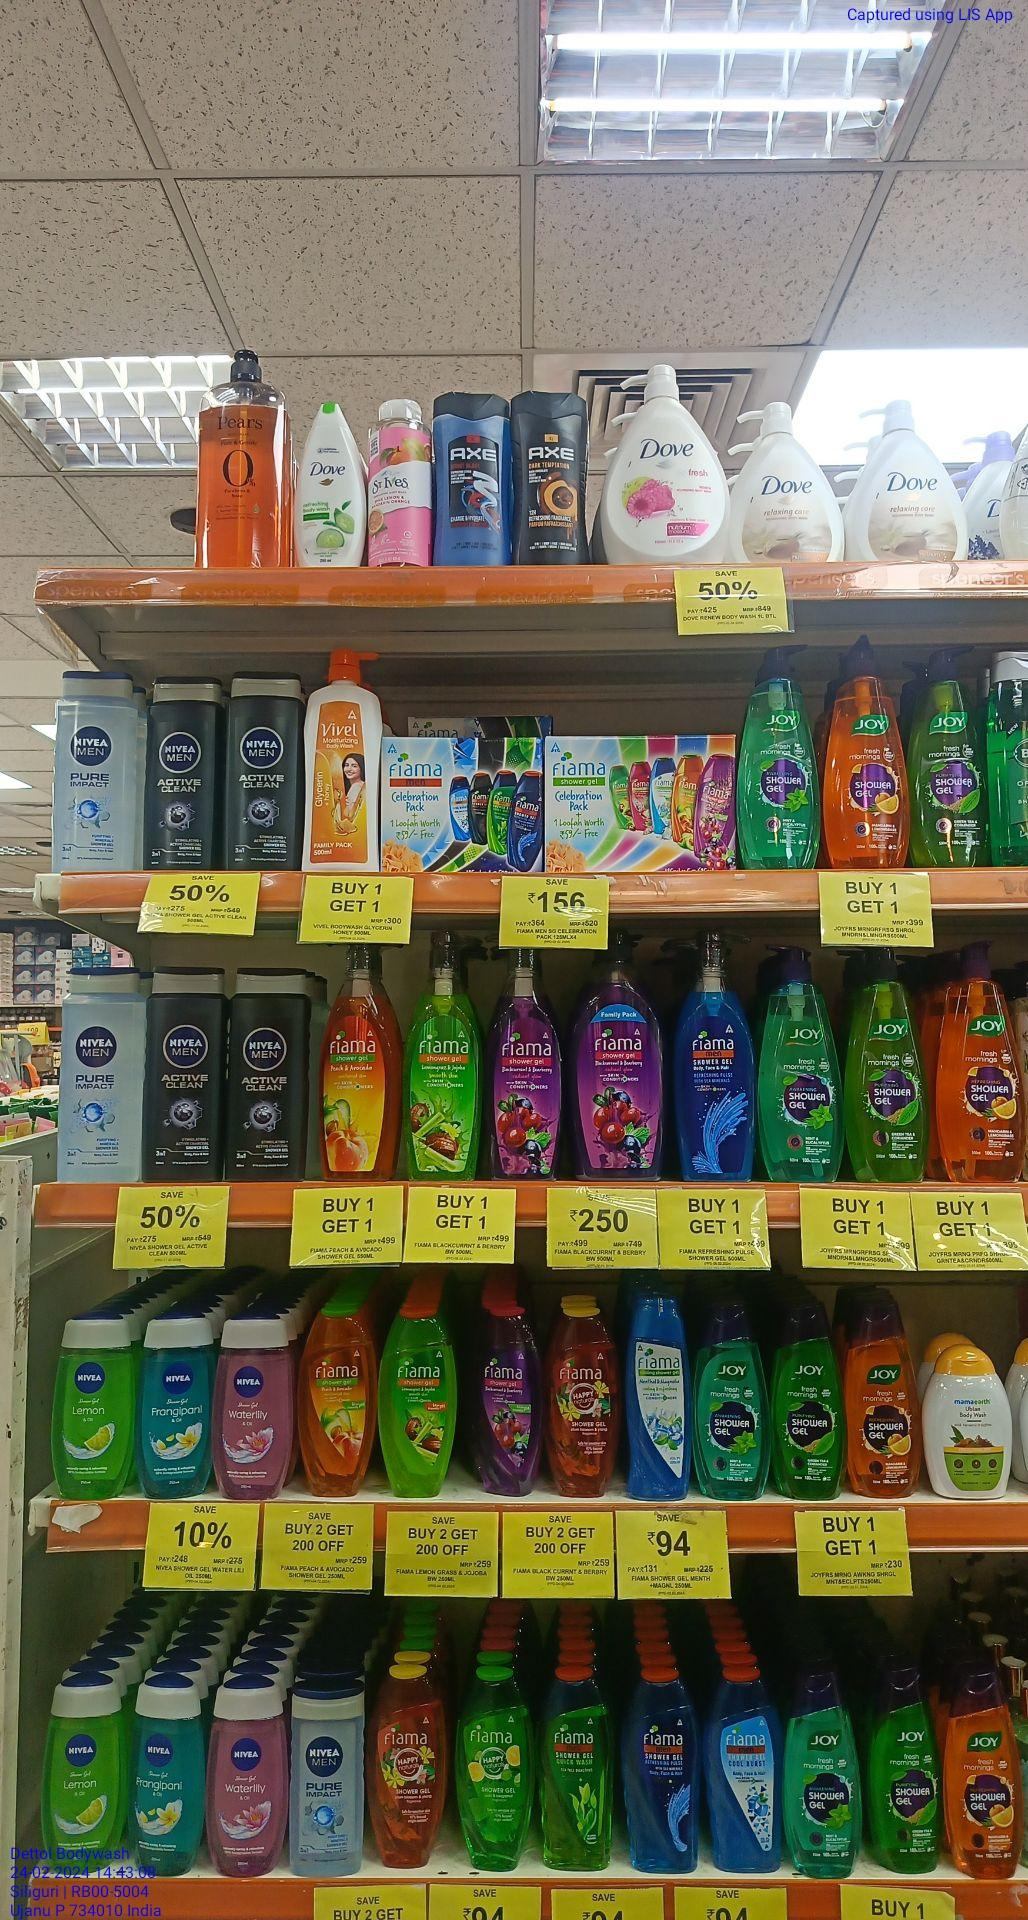Dove_Refreshing_Body_Wash_250ML: (293, 403, 366, 566)
Fiama_Shower_Gel_Lemongrass_and_Jojoba_250ML: (381, 1309, 453, 1495)
Fiama_Shower_Gel_Peach_and_Avocado_250ML: (298, 1309, 373, 1495)
Joy_Shower_Gel_Mandarin_and_Lemongrass_250ML: (838, 1291, 920, 1500), (948, 1671, 1020, 1883)
Joy_Shower_Gel_Mint_and_Eucalyptus_250ML: (782, 1670, 864, 1881), (690, 1299, 770, 1506)
Nivea_Shower_Gel_Frangipani_and_Oil_250ML: (133, 1677, 202, 1876), (143, 1314, 213, 1495)
Nivea_Shower_Gel_Lemon_and_Oil_250ML: (43, 1671, 128, 1870), (49, 1303, 137, 1495)
Nivea_Shower_Gel_Waterlily_and_Oil_250ML: (208, 1684, 284, 1877), (218, 1321, 292, 1498)
